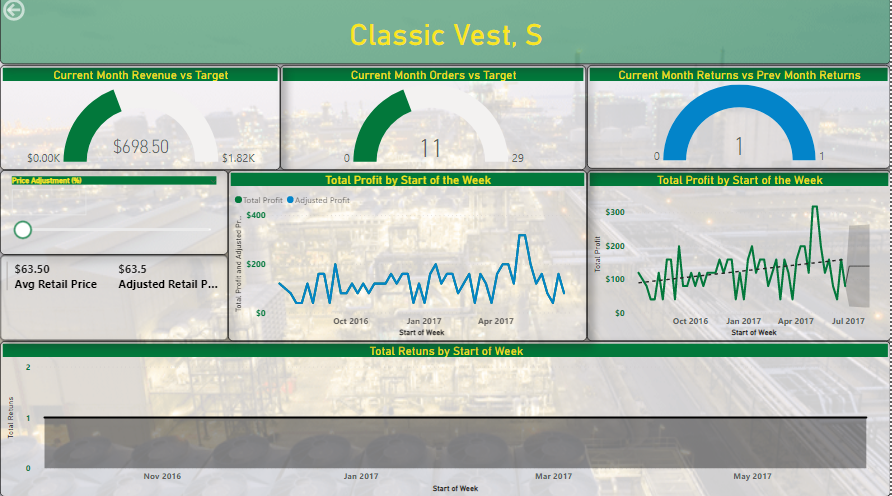

Layout of this report page (visuals, bound fields, positions):
{"tool":"powerbi","page":{"name":"Product Detail","canvas":[1280,720],"ordinal":1},"visuals":[{"type":"lineChart","title":"Total Profit by Start of the Week","fields":{"Y":["AW_Sales.Total Profit"],"Category":["AW_Calendar_Lookup.Start of Week"]},"box":[843.6,250.1,436.9,245.7],"z":0},{"type":"areaChart","fields":{"Category":["AW_Calendar_Lookup.Start of Week"],"Y":["AW_Returns.Total Retuns"]},"box":[0,495.8,1280.5,224.2],"z":1000},{"type":"gauge","title":"Current Month Orders vs Target","fields":{"Y":["AW_Sales.Total Orders"],"MaxValue":["AW_Sales.Order Target"]},"box":[402.6,98.5,439.6,151.2],"z":2000},{"type":"gauge","title":"Current Month Revenue vs Target","fields":{"Y":["AW_Sales.Total Revenue"],"MaxValue":["AW_Sales.Revenue Target"]},"box":[0,98.5,402.6,151.2],"z":3000},{"type":"gauge","title":"Current Month Returns vs Prev Month Returns","fields":{"Y":["AW_Returns.Total Retuns"],"MaxValue":["AW_Returns.Prev Month Returns"]},"box":[844,98.5,436,149.5],"z":4000},{"type":"card","fields":{"Values":["Min(AW_Product_Lookup.ProductName)"]},"box":[0,0,1280,98.5],"z":5000},{"type":"actionButton","box":[0,0,100.2,40.4],"z":6000},{"type":"slicer","fields":{"Values":["Price Adjustment (%).Price Adjustment (%)"]},"box":[0,250.1,327.7,122.2],"z":7000},{"type":"multiRowCard","fields":{"Values":["AW_Product_Lookup.Avg Retail Price","AW_Product_Lookup.Adjusted Retail Price"]},"box":[0,372.6,328.1,123],"z":8000},{"type":"lineChart","title":"Total Profit by Start of the Week","fields":{"Y":["AW_Sales.Total Profit","AW_Sales.Adjusted Profit"],"Category":["AW_Calendar_Lookup.Start of Week"]},"box":[327.7,250.1,515.9,245.7],"z":9000}]}

Visuals, with their boxes in screenshot pixels (x1, y1, x2, y2), scaled from the page's 1280x720 canvas onto the 892x496 screenshot:
"Total Profit by Start of the Week" lineChart: x1=588 y1=172 x2=891 y2=342
areaChart - AW_Calendar_Lookup.Start of Week x AW_Returns.Total Retuns: x1=0 y1=342 x2=891 y2=495
"Current Month Orders vs Target" gauge: x1=281 y1=68 x2=587 y2=172
"Current Month Revenue vs Target" gauge: x1=0 y1=68 x2=281 y2=172
"Current Month Returns vs Prev Month Returns" gauge: x1=588 y1=68 x2=891 y2=171
card - Min(AW_Product_Lookup.ProductName): x1=0 y1=0 x2=891 y2=68
actionButton: x1=0 y1=0 x2=70 y2=28
slicer - Price Adjustment (%).Price Adjustment (%): x1=0 y1=172 x2=228 y2=256
multiRowCard - AW_Product_Lookup.Avg Retail Price x AW_Product_Lookup.Adjusted Retail Price: x1=0 y1=257 x2=229 y2=341
"Total Profit by Start of the Week" lineChart: x1=228 y1=172 x2=588 y2=342
